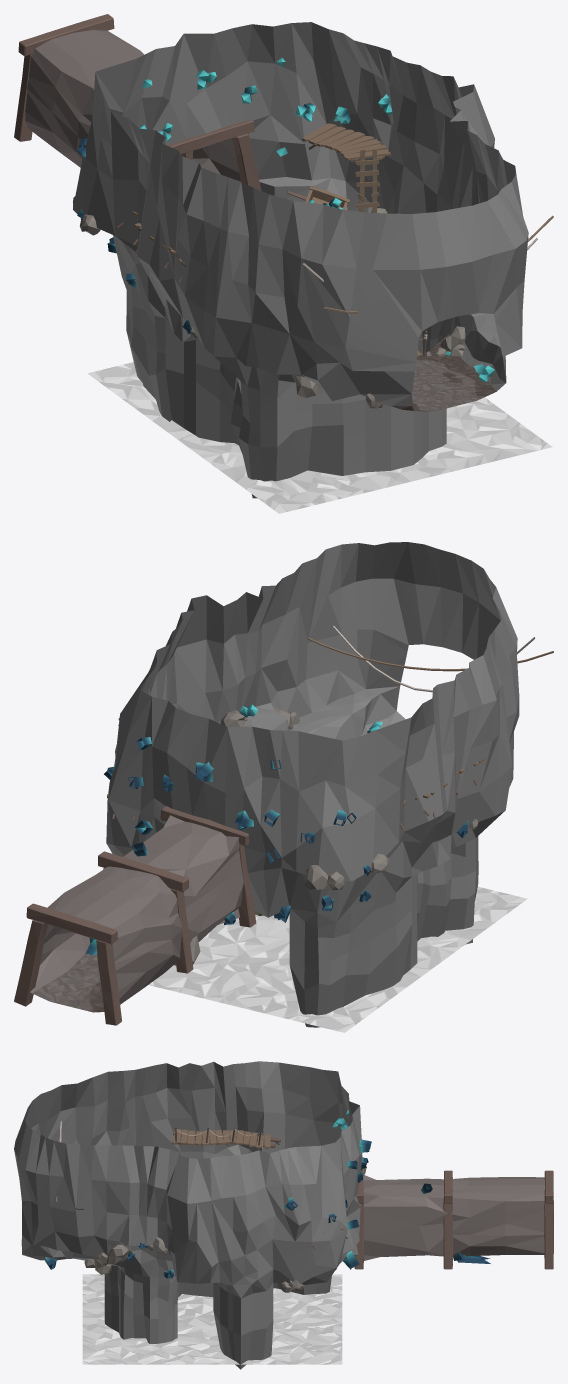
Rendered from minesDiorama.fbx.
The picture shows the model from 3 angles, top to bottom: view 1: azimuth 30°, elevation 25°; view 2: azimuth 150°, elevation 25°; view 3: azimuth 270°, elevation 25°; orthographic projection. The views are drawn at different scales.
Visible parts, largest first — view 1: minesDiorama, minesBottom, minesRoom2, mines01_props; view 2: minesDiorama, minesRoom2, minesBottom, mines01_props; view 3: minesDiorama, minesRoom2, minesBottom, mines01_props.
Boxes of the visible parts, x1,y1,x2,y2 form: minesDiorama: (73,22,528,498); minesBottom: (87,362,552,513); minesRoom2: (14,14,261,190); mines01_props: (73,58,553,408); minesDiorama: (106,542,519,1027); minesRoom2: (14,806,256,1025); minesBottom: (148,886,527,1032); mines01_props: (104,626,553,922); minesDiorama: (14,1061,362,1369); minesRoom2: (354,1170,553,1269); minesBottom: (82,1274,342,1364); mines01_props: (45,1110,371,1292).
Size of the model in its own units: 16.37 by 15.52 by 34.61.
